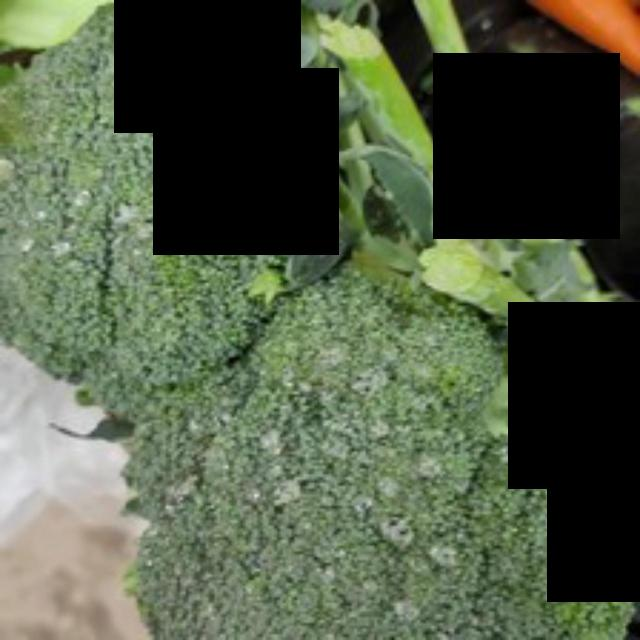broccoli: (100, 246, 637, 636)
